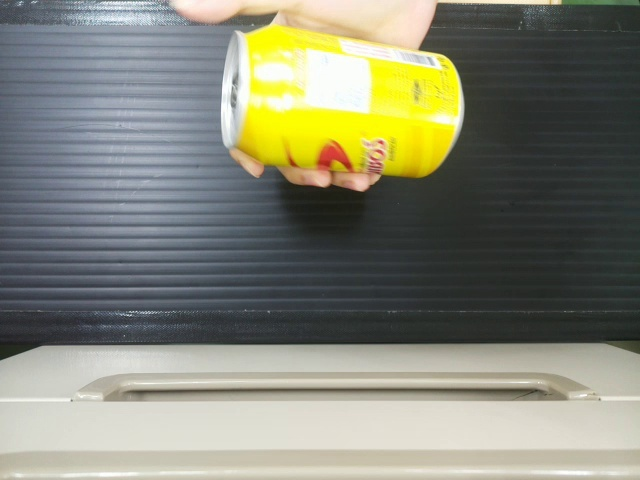can: (217, 22, 464, 170)
